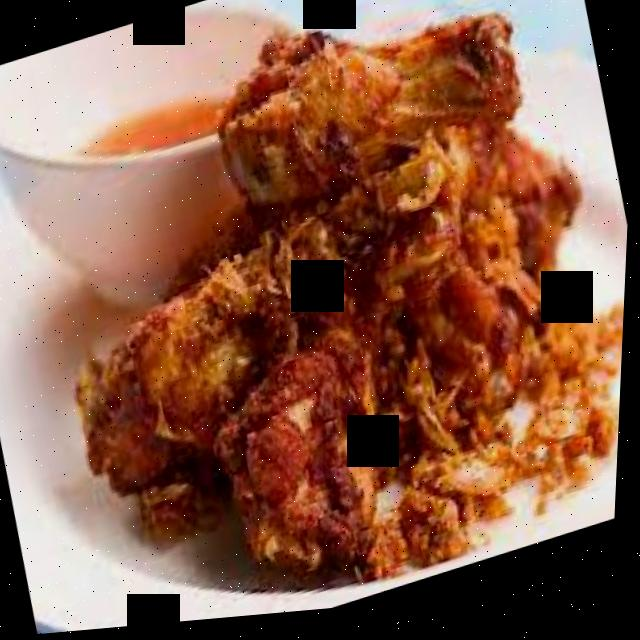Frango: (3, 0, 640, 638)
